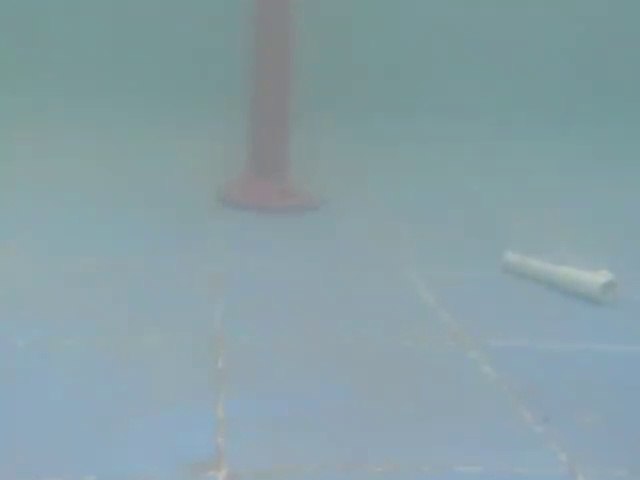flare: (221, 0, 334, 220)
